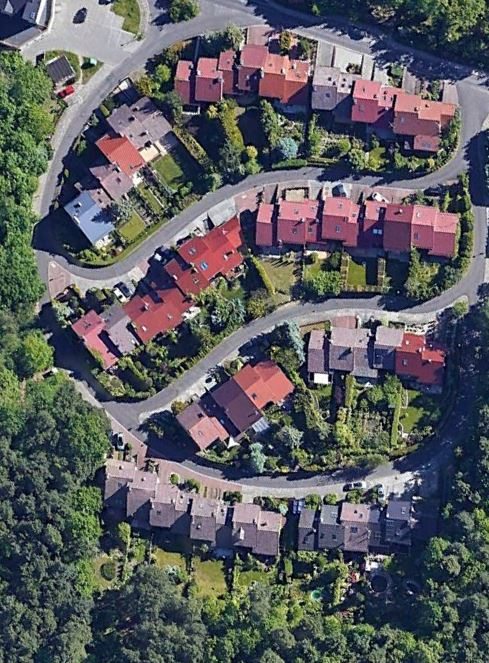terrace house: (170, 39, 469, 162), (66, 211, 252, 376), (97, 455, 287, 562), (61, 93, 175, 252), (253, 184, 466, 262), (173, 355, 301, 453), (302, 323, 452, 396), (295, 492, 429, 562)
